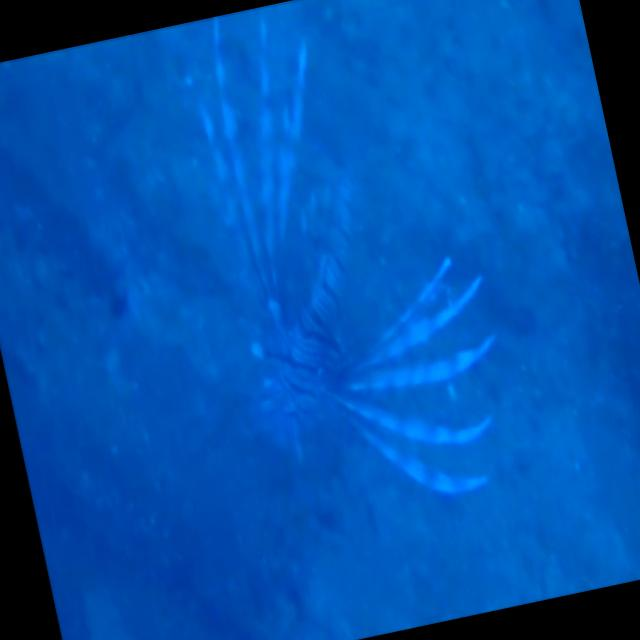Aslan Baligi: (169, 0, 531, 551)
